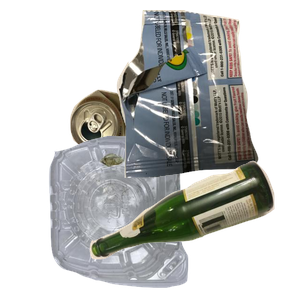glass: (87, 158, 300, 300)
metal: (67, 87, 206, 234)
plastic: (46, 130, 227, 300)
trash: (114, 10, 300, 180)
